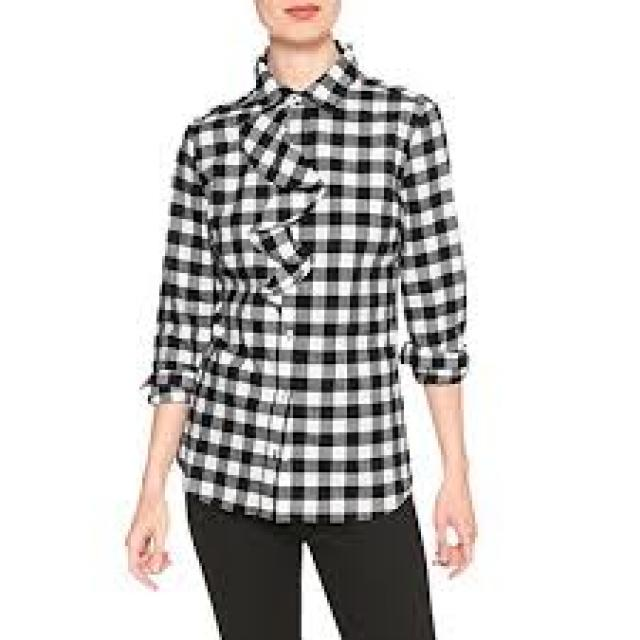plaid: (142, 51, 462, 534)
